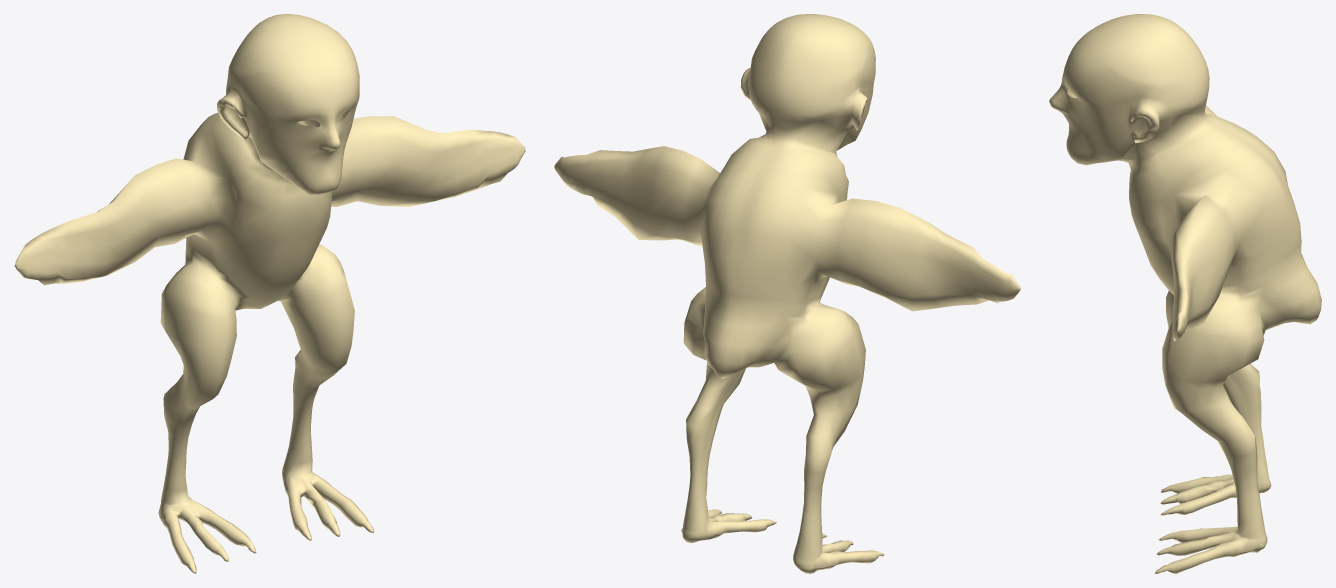
Rendered from goya5.glb.
The picture shows the model from 3 angles, left to right: view 1: azimuth 30°, elevation 25°; view 2: azimuth 150°, elevation 25°; view 3: azimuth 270°, elevation 25°; orthographic projection. The views are drawn at different scales.
Visible parts, largest first — view 1: GOYA2ARREGLADO; view 2: GOYA2ARREGLADO; view 3: GOYA2ARREGLADO.
Part boxes in pixels (x1=…): GOYA2ARREGLADO: x1=14, y1=14, x2=525, y2=573; GOYA2ARREGLADO: x1=554, y1=14, x2=1020, y2=573; GOYA2ARREGLADO: x1=1049, y1=14, x2=1321, y2=573.
Bounding box in the file's own units: 1355 × 1390 × 669.
